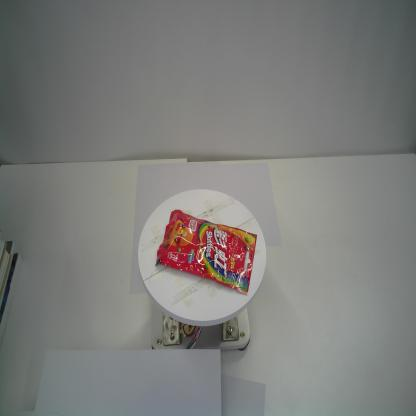Candy: (154, 209, 258, 295)
